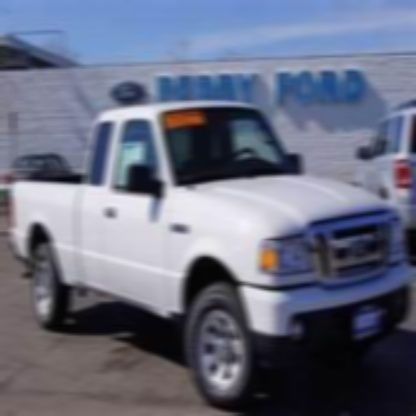Vehicle: (10, 103, 412, 408)
